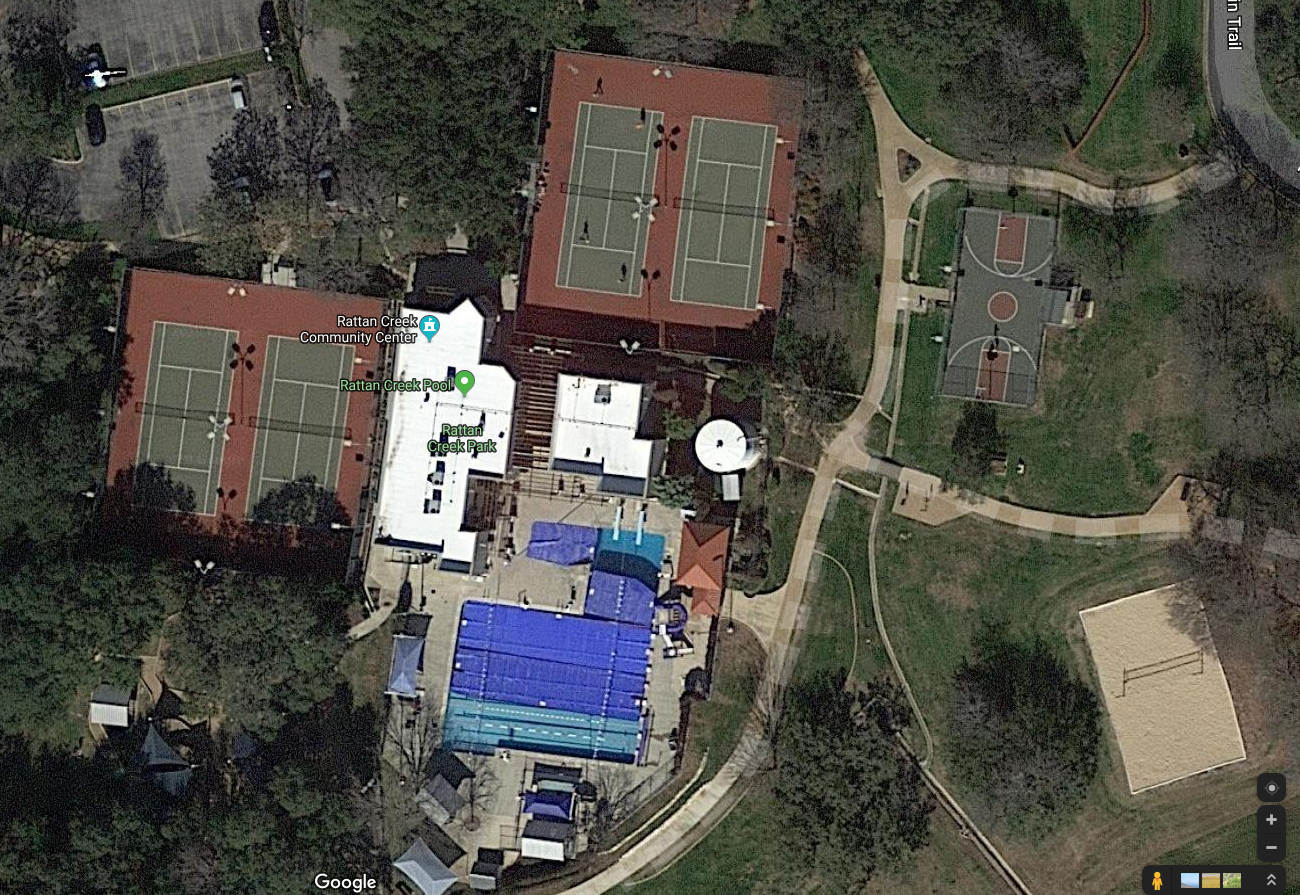baseball: (931, 182, 1063, 468)
pool: (411, 591, 704, 782)
tennis: (129, 312, 244, 527), (554, 91, 661, 302), (684, 104, 781, 316)
